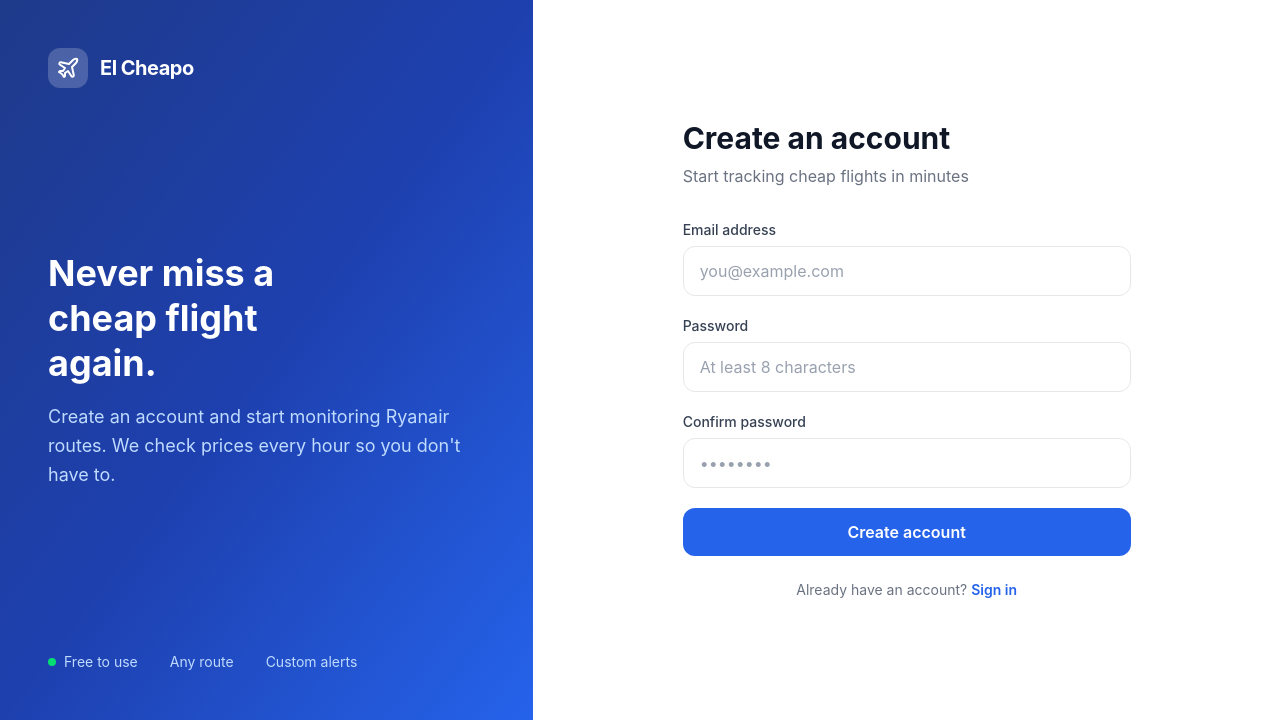
Test case: Register › shows error when email is invalid
In the field with placeholder "you@example.com": (907,271) [683,246,1131,296], type "notanemail"
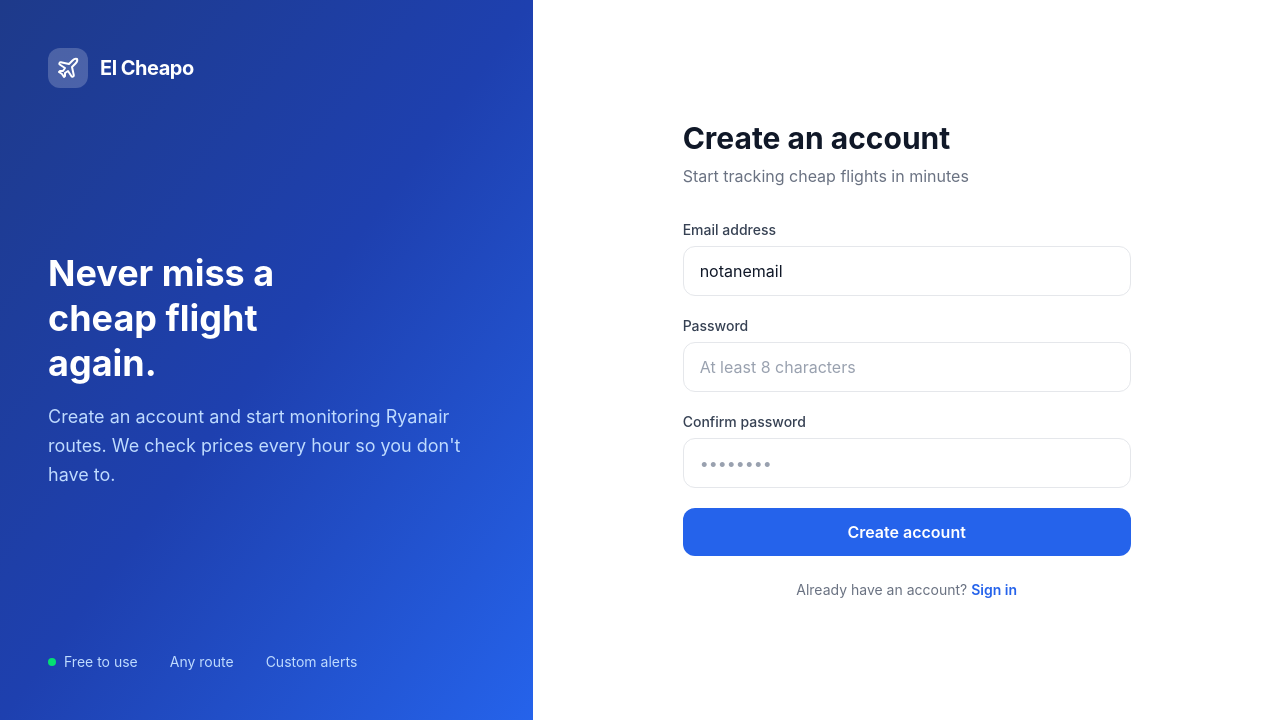
In the password field with placeholder "At least 8 characters": (907,367) [683,342,1131,392], type "Password1!"
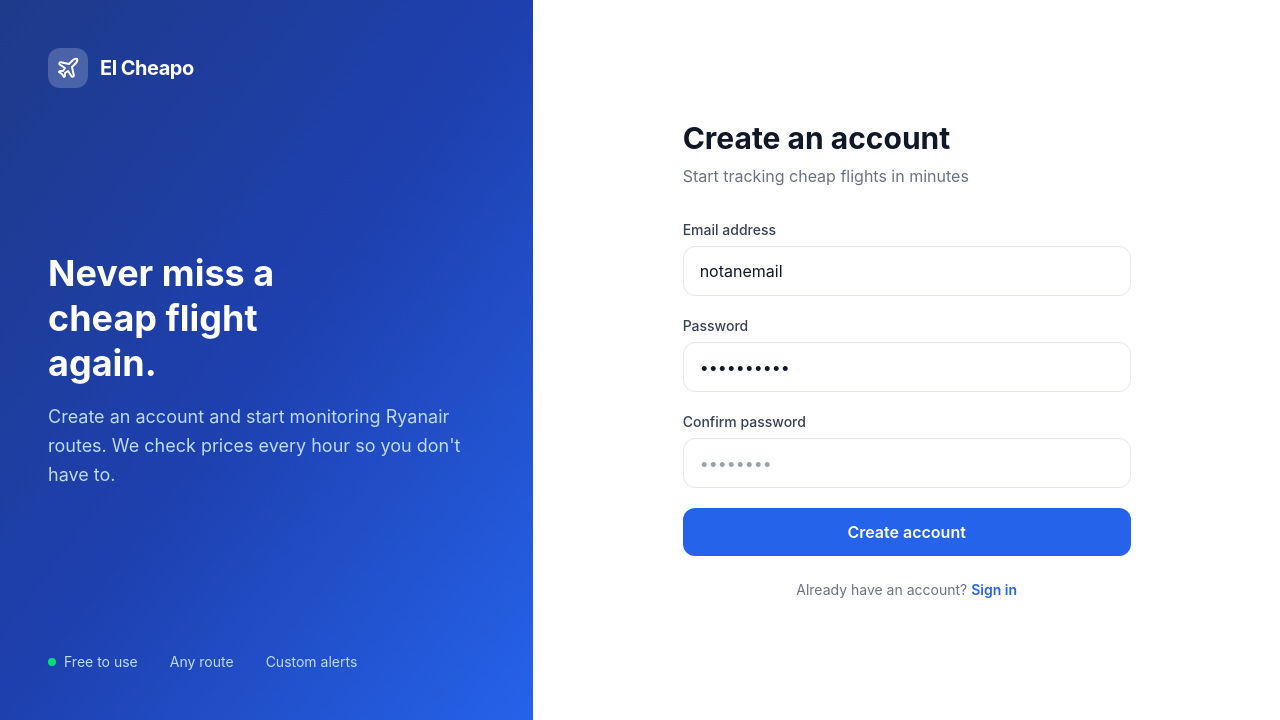
In the password field with placeholder "••••••••": (907,463) [683,438,1131,488], type "Password1!"
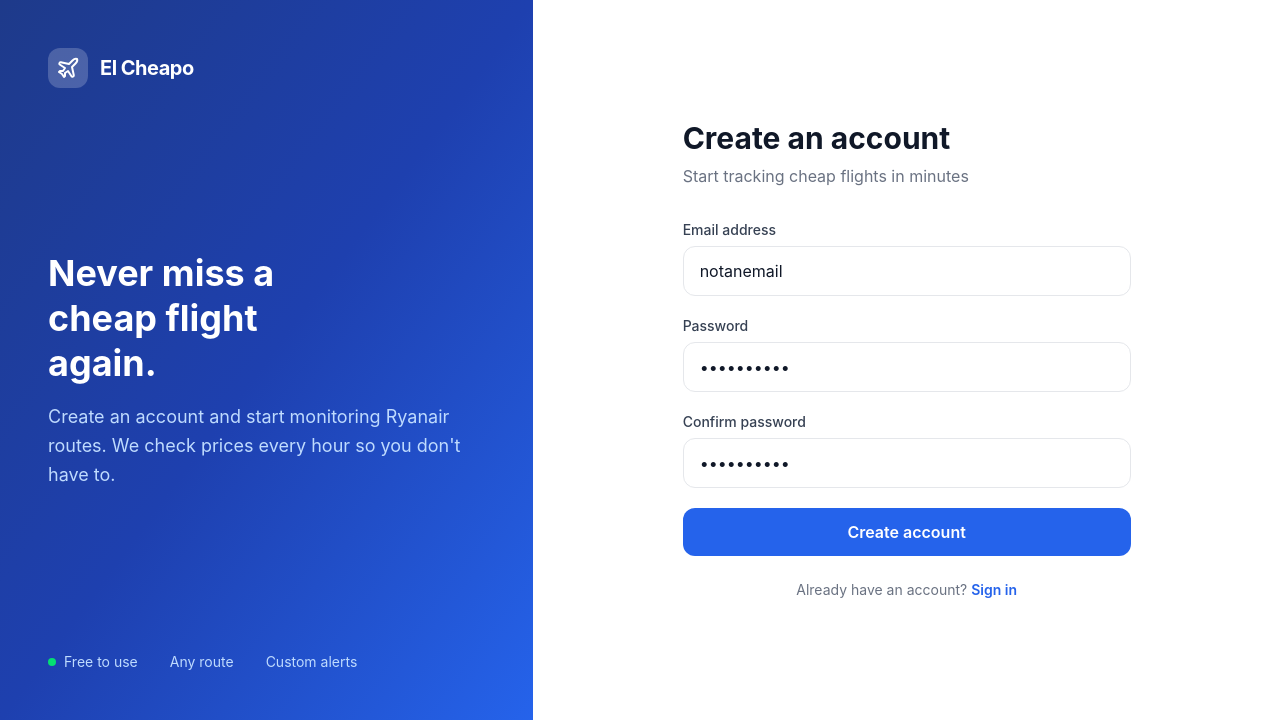
Click the button "Create account": (907,532) [683,508,1131,556]
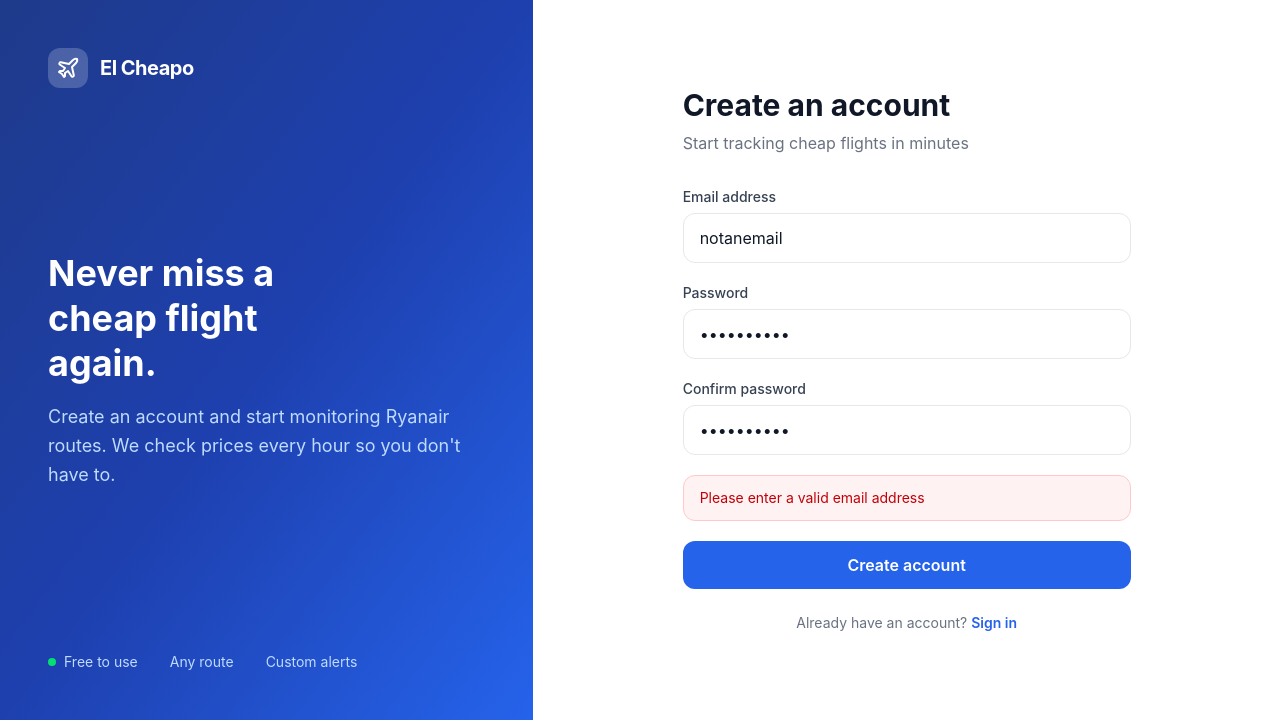
Result: the text "Please enter a valid email address" is shown at [683,475,1131,521]
